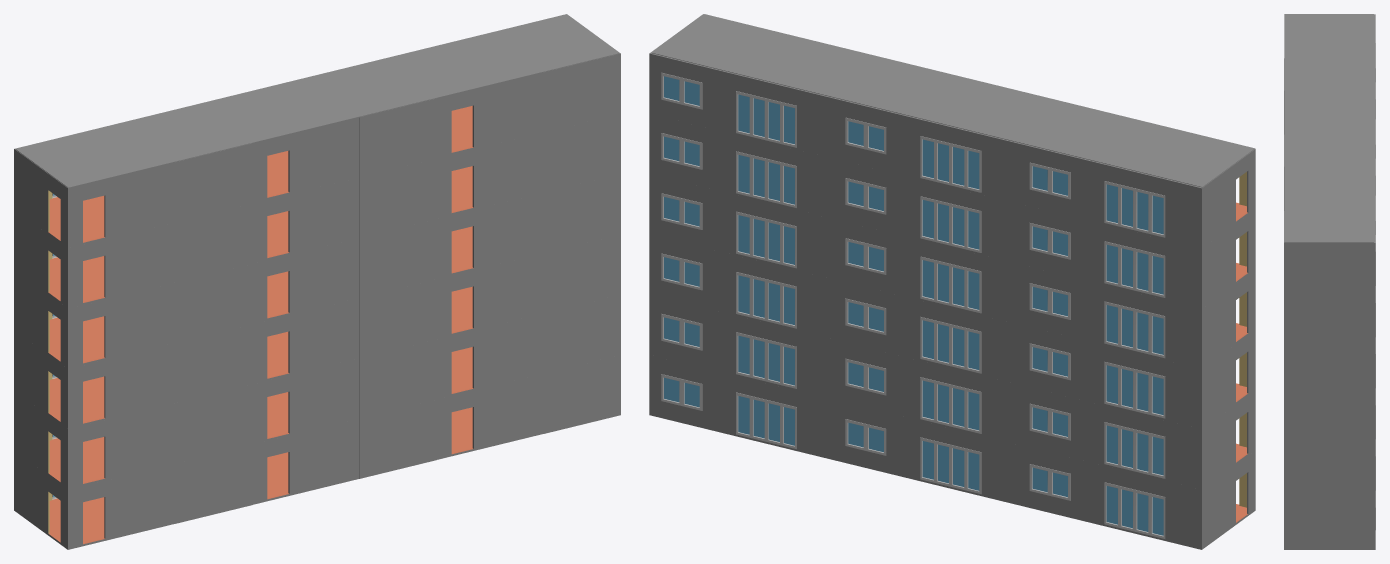
Rendered from ApartmentBuilding.fbx.
The picture shows the model from 3 angles, left to right: view 1: azimuth 30°, elevation 25°; view 2: azimuth 150°, elevation 25°; view 3: azimuth 270°, elevation 25°; orthographic projection. The views are drawn at different scales.
Parts seen in each view (by area): view 1: ApartmentBuilding; view 2: ApartmentBuilding; view 3: ApartmentBuilding.
Part boxes in pixels (box(x1,y1,x2,y2)): ApartmentBuilding: box(14, 14, 620, 549); ApartmentBuilding: box(649, 14, 1255, 549); ApartmentBuilding: box(1284, 14, 1375, 549).
Bounding box in the file's own units: 3454 × 2163 × 586.
